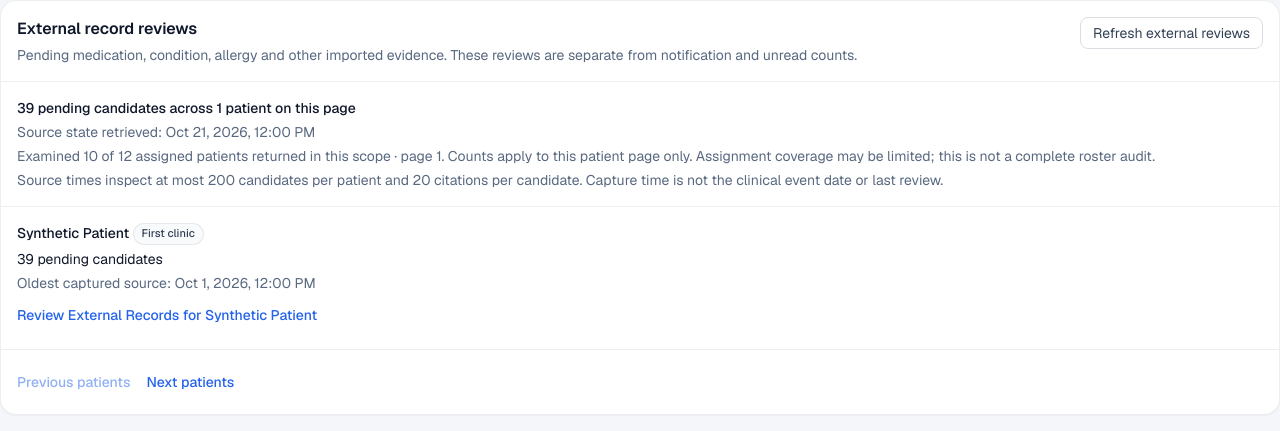
Scenario: External record reviews › paginates assigned patients and resets page after clinic change
What coordinates should you click on to do the following:
click the button "Next patients"
I would click on:
 (190, 382)
Its box is x1=146 y1=366 x2=234 y2=398.
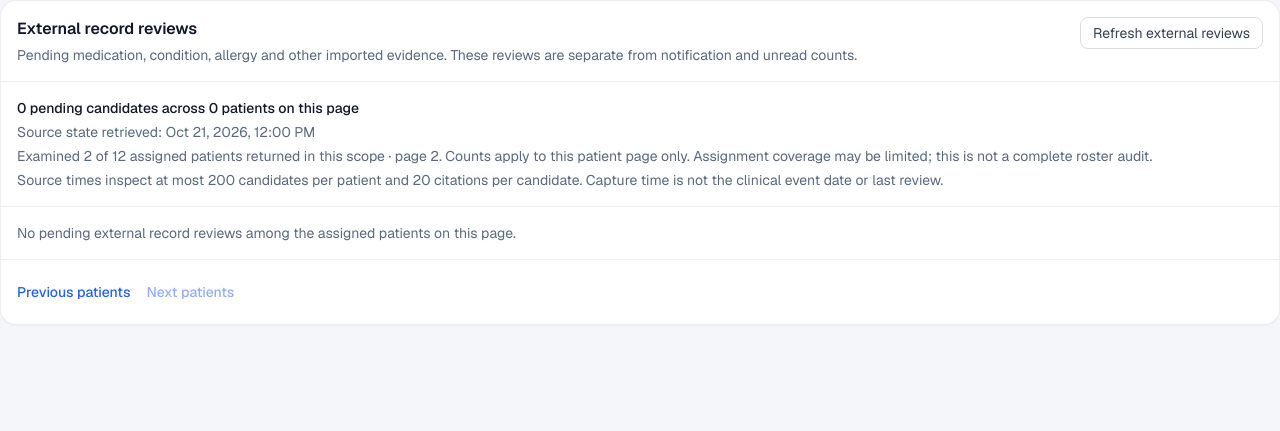
Expected: the button "Next patients" is disabled, x1=146 y1=276 x2=234 y2=308
